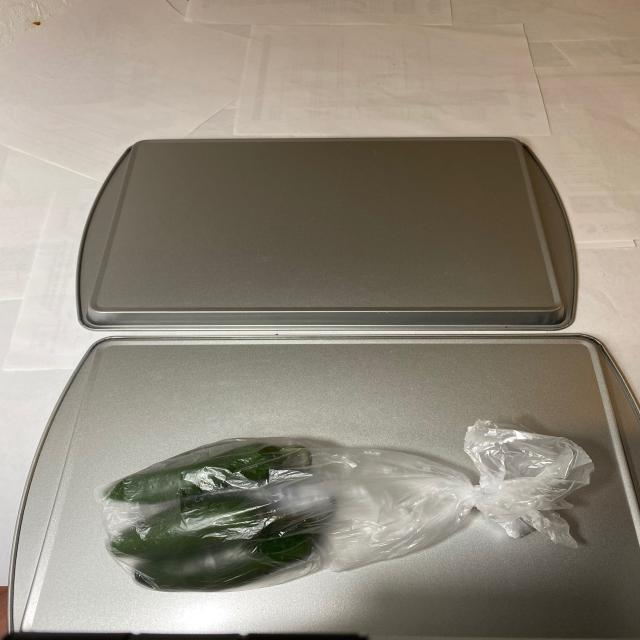chilli: (91, 440, 348, 590)
